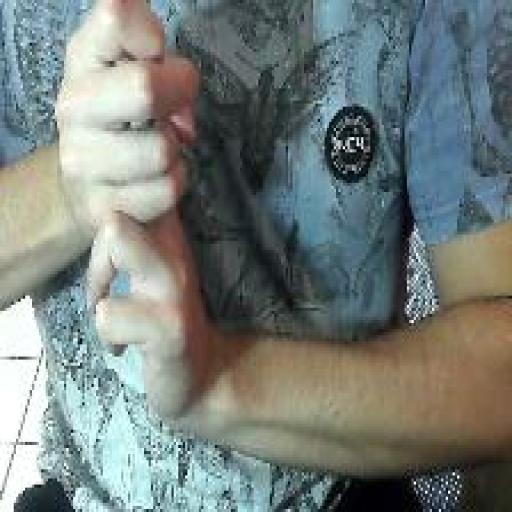Ne -rat-: (50, 0, 210, 442)
